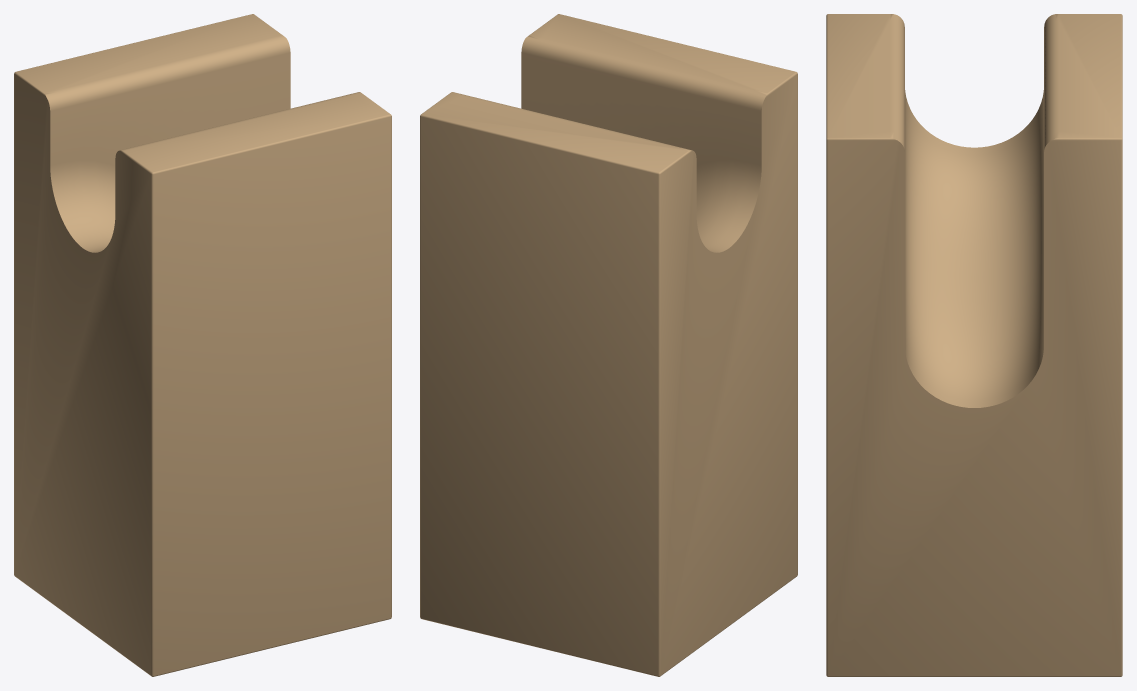
The model's file is blk_slope_steep_l2.glb.
3 renders of one model, left to right at view 1: azimuth 30°, elevation 25°; view 2: azimuth 150°, elevation 25°; view 3: azimuth 270°, elevation 25°, orthographic. The views are drawn at different scales.
Visible parts, largest first — view 1: blk_slope_steep_l2_lod0; view 2: blk_slope_steep_l2_lod0; view 3: blk_slope_steep_l2_lod0.
Boxes of the visible parts, <box> form: blk_slope_steep_l2_lod0: <box>14,14,391,676</box>; blk_slope_steep_l2_lod0: <box>420,14,797,676</box>; blk_slope_steep_l2_lod0: <box>826,14,1122,676</box>.
Size of what is drawn, in the model's own units: 0.0596 by 0.1196 by 0.0596.
